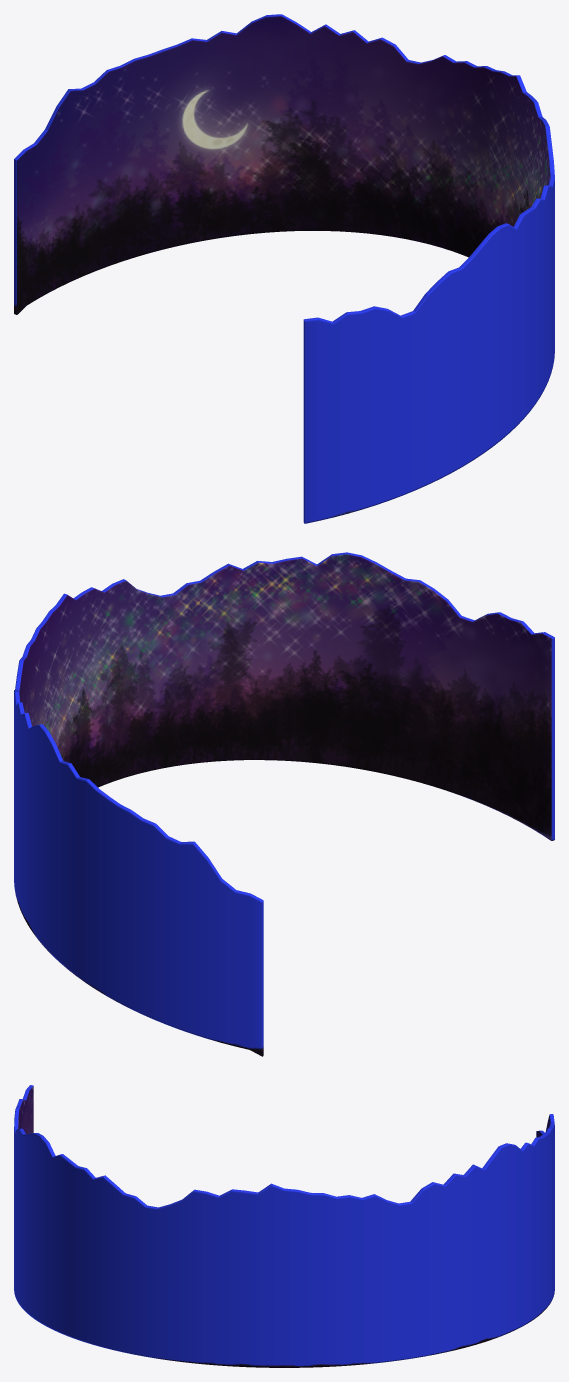
The model's file is background.fbx.
3 renders of one model, top to bottom at view 1: azimuth 30°, elevation 25°; view 2: azimuth 150°, elevation 25°; view 3: azimuth 270°, elevation 25°, orthographic. The views are drawn at different scales.
Visible parts, largest first — view 1: Cylinder.002; view 2: Cylinder.002; view 3: Cylinder.002.
Boxes of the visible parts, x1,y1,x2,y2 form: Cylinder.002: (14,14,554,523); Cylinder.002: (14,552,554,1056); Cylinder.002: (14,1085,554,1367).
Size of the model in its own units: 13.47 by 9.63 by 20.37.
